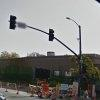Traffic light: (3, 13, 28, 37)
